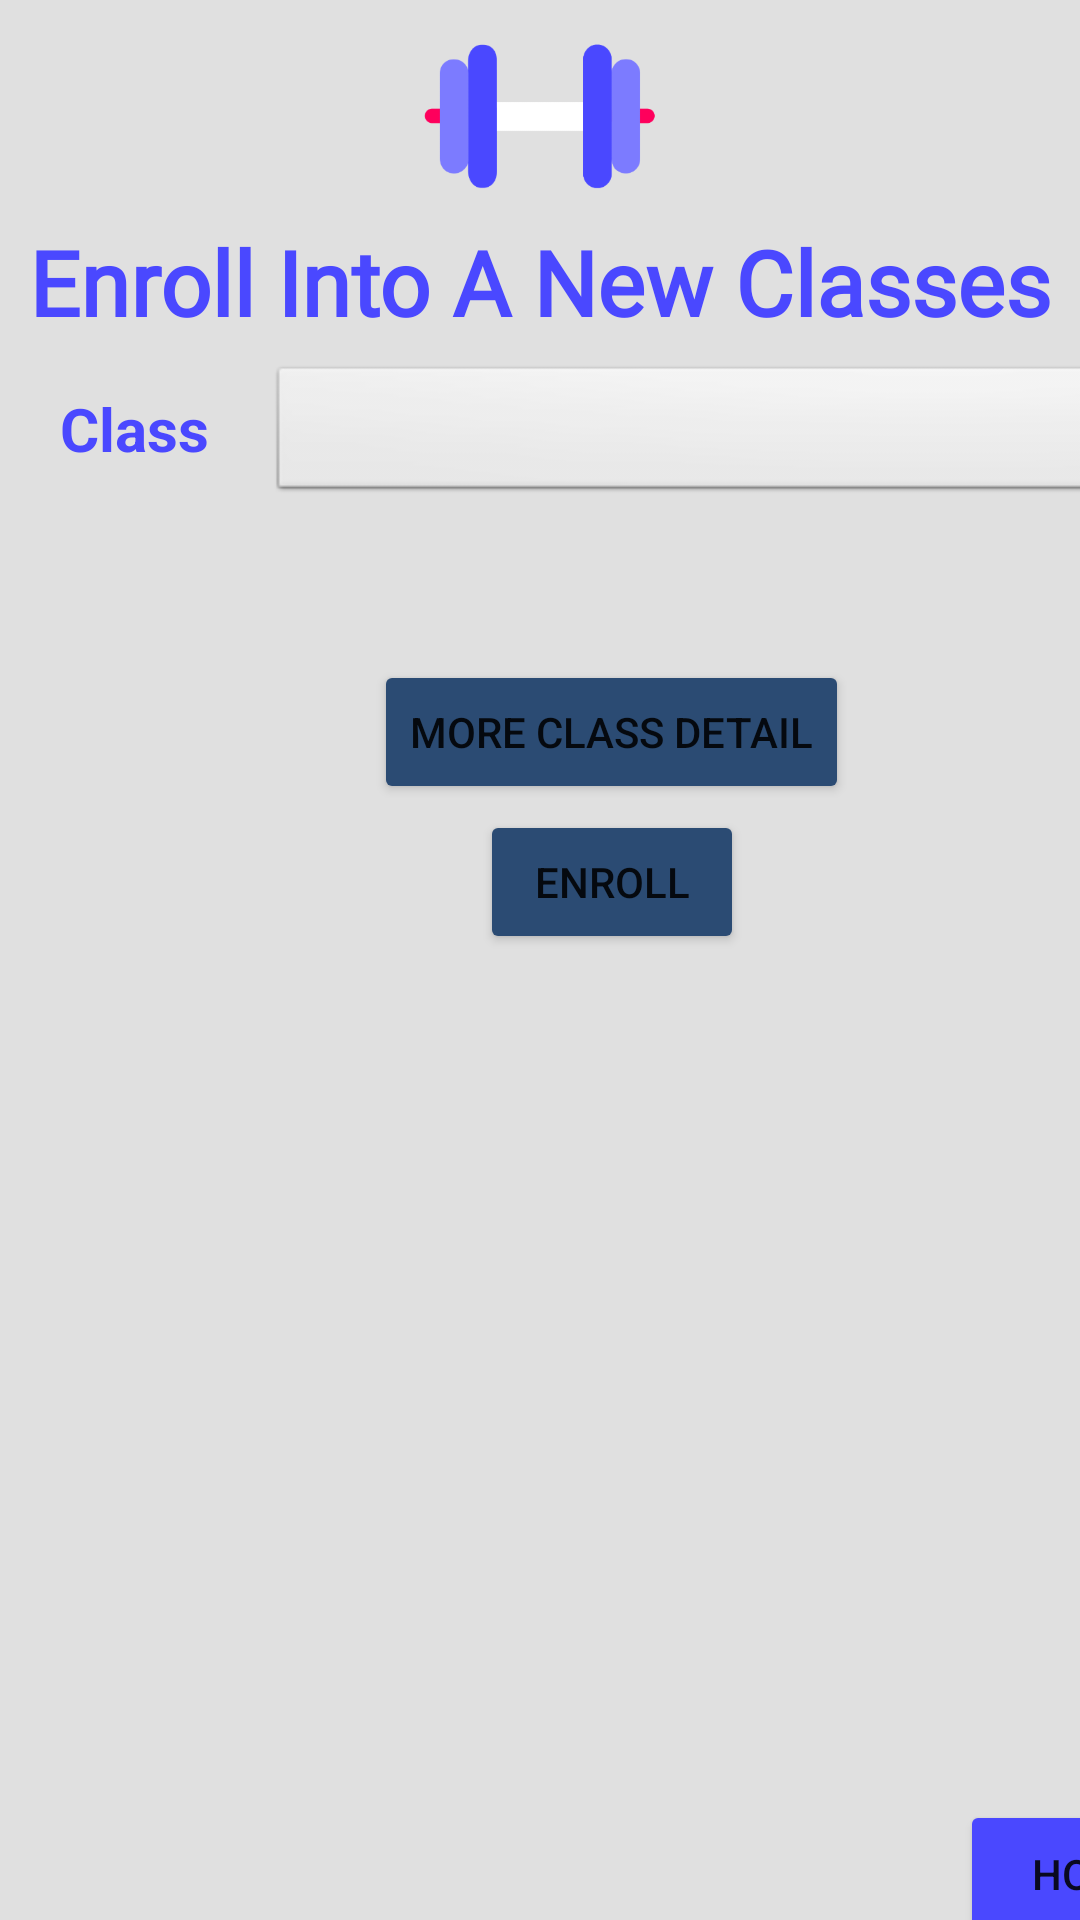

Icon click points for this 1080x1920 phone screenshot, format [x,y]:
dumbell purp: [539,116]
